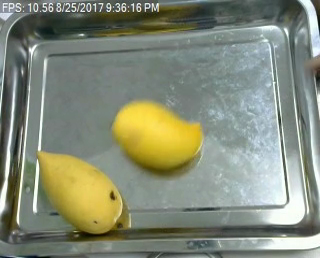Mango: (26, 147, 121, 234), (109, 95, 209, 172)
